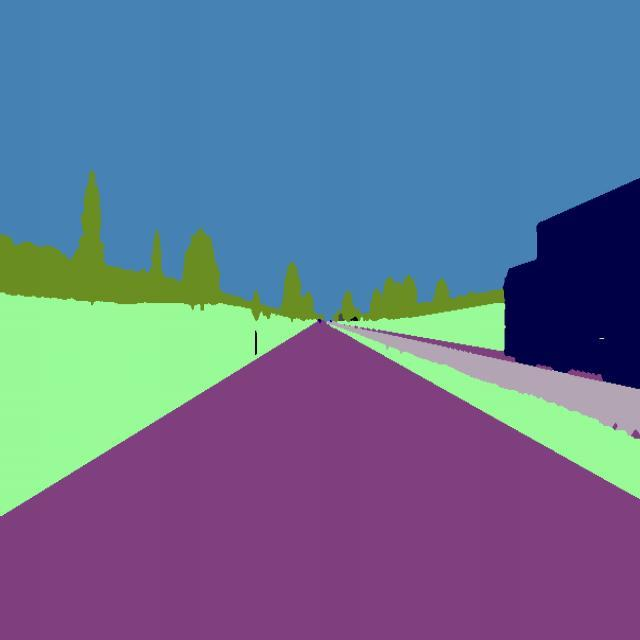safe: (501, 173, 640, 391)
